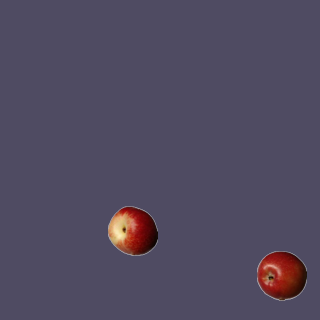Apple Braeburn: (256, 250, 306, 300)
Nectarine: (107, 205, 157, 255)
